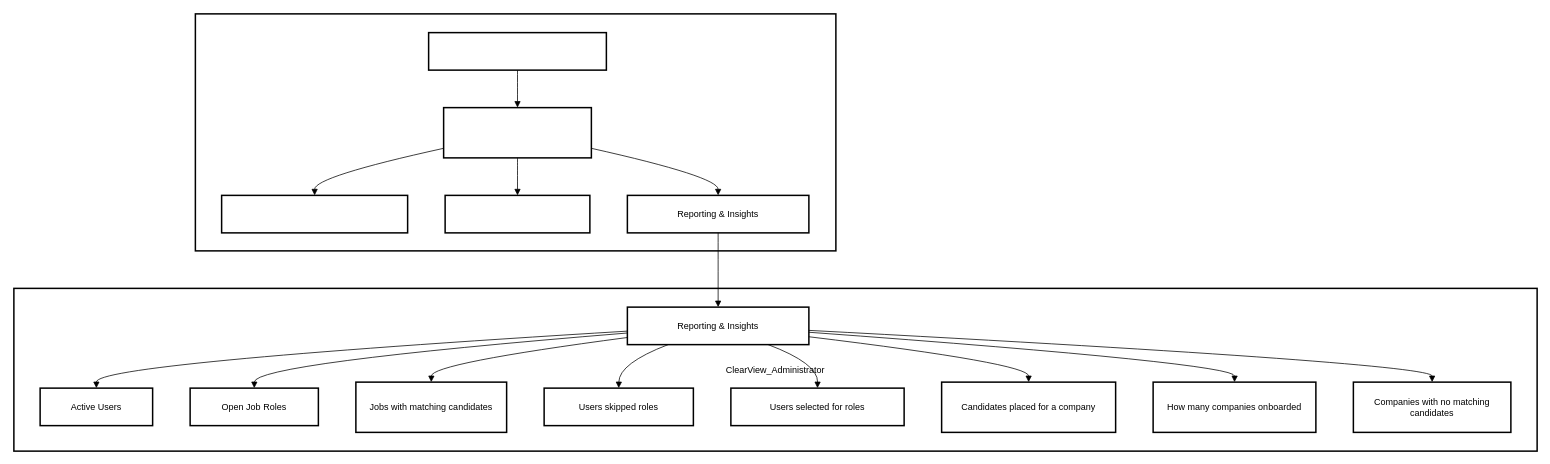
The diagram is 1550 pixels wide and 464 high, and some of its shapes have lost their labels. The shapes that lost their labels are listed below. From the top down, each one's centre as x and y in pixels, then its label:
At (x=517, y=51): "ClearView Administrator".
At (x=517, y=132): "ClearView Solution Management".
At (x=314, y=213): "Notification & Status".
At (x=517, y=213): "Invoice Generated".
